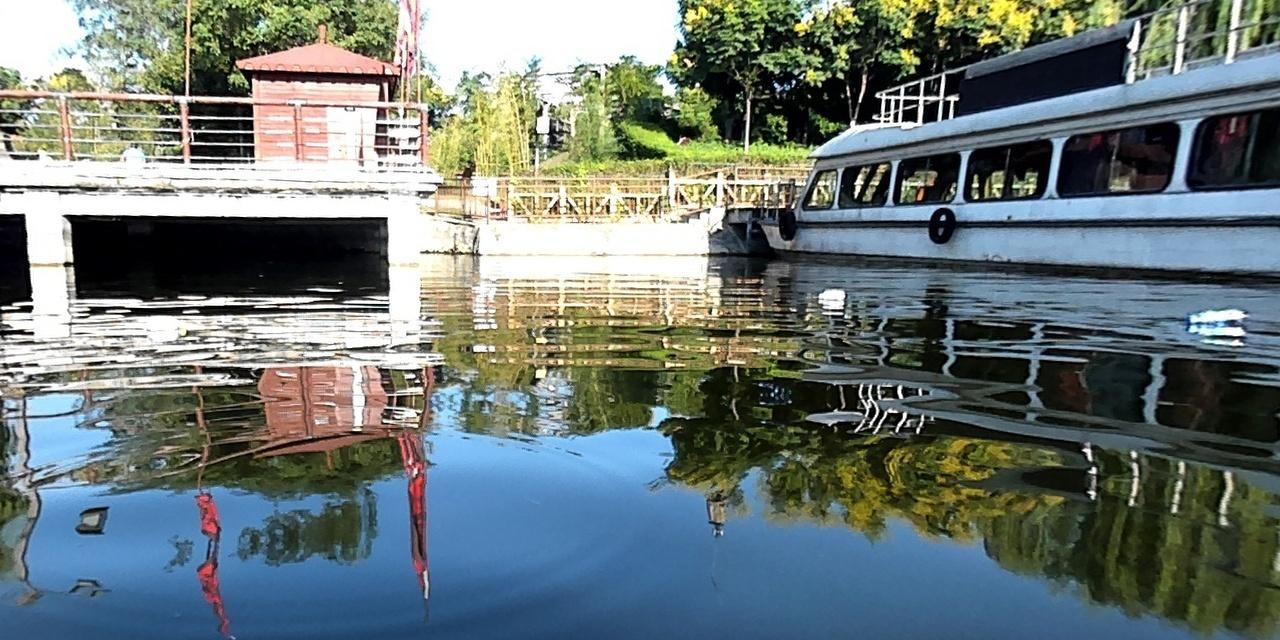bottle: (1181, 304, 1247, 327), (813, 283, 841, 301)
